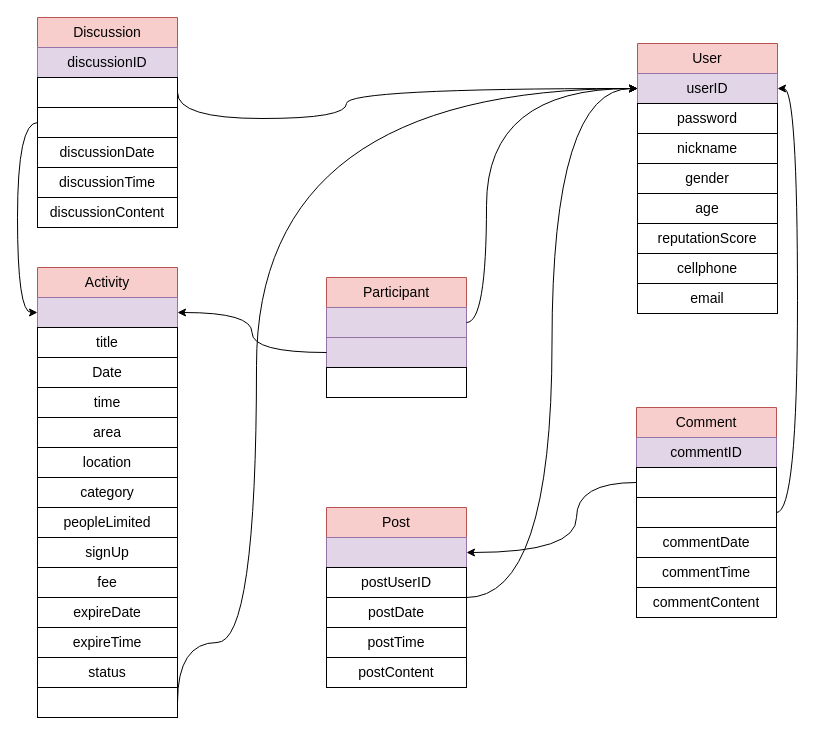
Some shapes in this 815 by 735 pixel diagram are drawn without their labels. The centre of each missing label's shape, as x and y in pixels:
activityID: the point at 107,312
commentPostID: the point at 706,482
commentUserID: the point at 706,512
discussionActivityID: the point at 107,122
discussionUserID: the point at 107,92
organizerUserID: the point at 107,702
participantActivityID: the point at 396,352
participantUserID: the point at 396,322
postID: the point at 396,552
score: the point at 396,382
